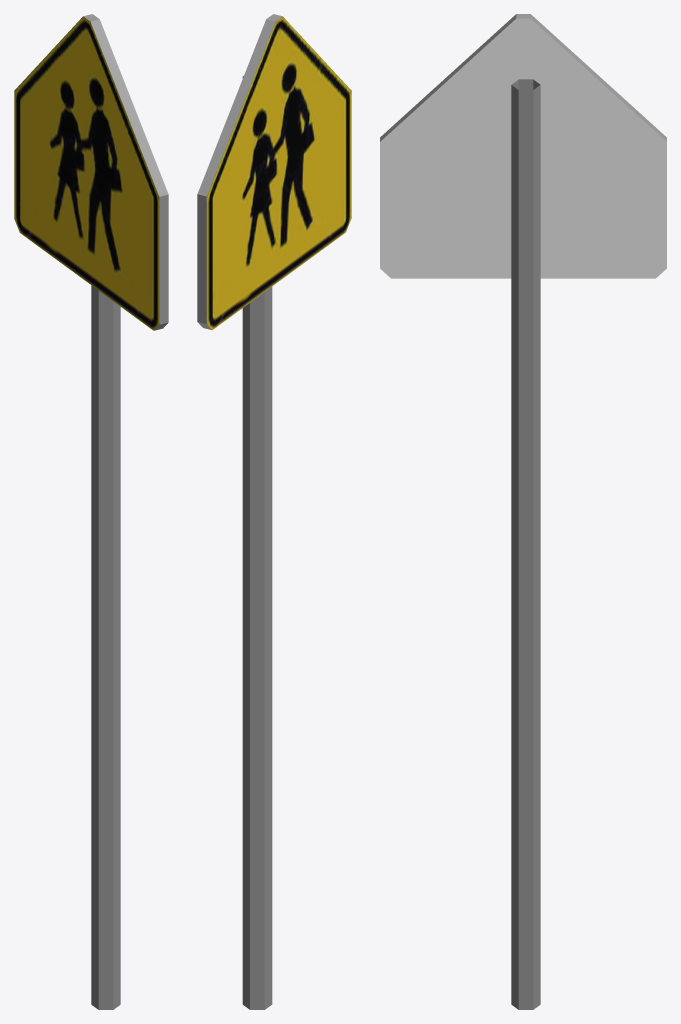
The model's file is RoadSign4_1.fbx.
3 views of the same model, side by side, from view 1: azimuth 30°, elevation 25°; view 2: azimuth 150°, elevation 25°; view 3: azimuth 270°, elevation 25° (orthographic).
Parts seen in each view (by area): view 1: Circle.031; view 2: Circle.031; view 3: Circle.031.
Boxes of the visible parts, x1=… form: Circle.031: x1=14, y1=14, x2=168, y2=1009; Circle.031: x1=197, y1=14, x2=351, y2=1009; Circle.031: x1=380, y1=14, x2=666, y2=1009.
Bounding box in the file's own units: 12.35 × 370 × 98.17.
